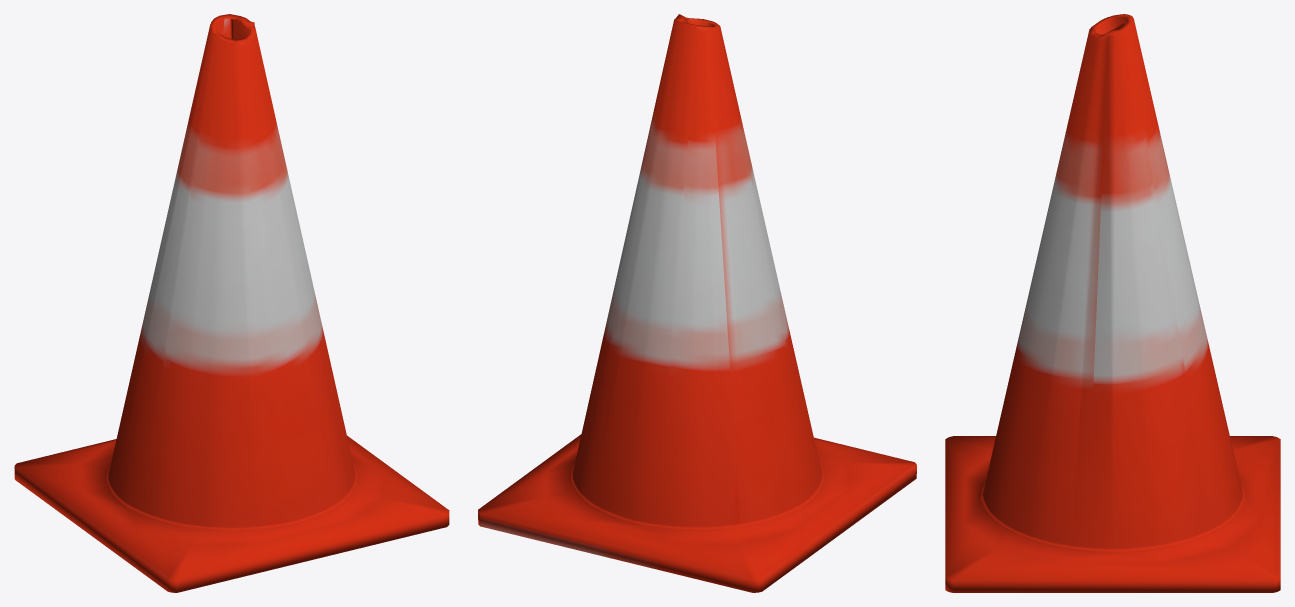
3 views of the same model, side by side, from view 1: azimuth 30°, elevation 25°; view 2: azimuth 150°, elevation 25°; view 3: azimuth 270°, elevation 25° (orthographic). The views are drawn at different scales.
Parts seen in each view (by area): view 1: cone; view 2: cone; view 3: cone.
Part boxes in pixels (x1=…): cone: x1=14, y1=14, x2=449, y2=592; cone: x1=478, y1=14, x2=916, y2=592; cone: x1=945, y1=14, x2=1280, y2=592.
Size of the model in its own units: 61.63 by 100 by 60.6.
1 material, 1 textured.
